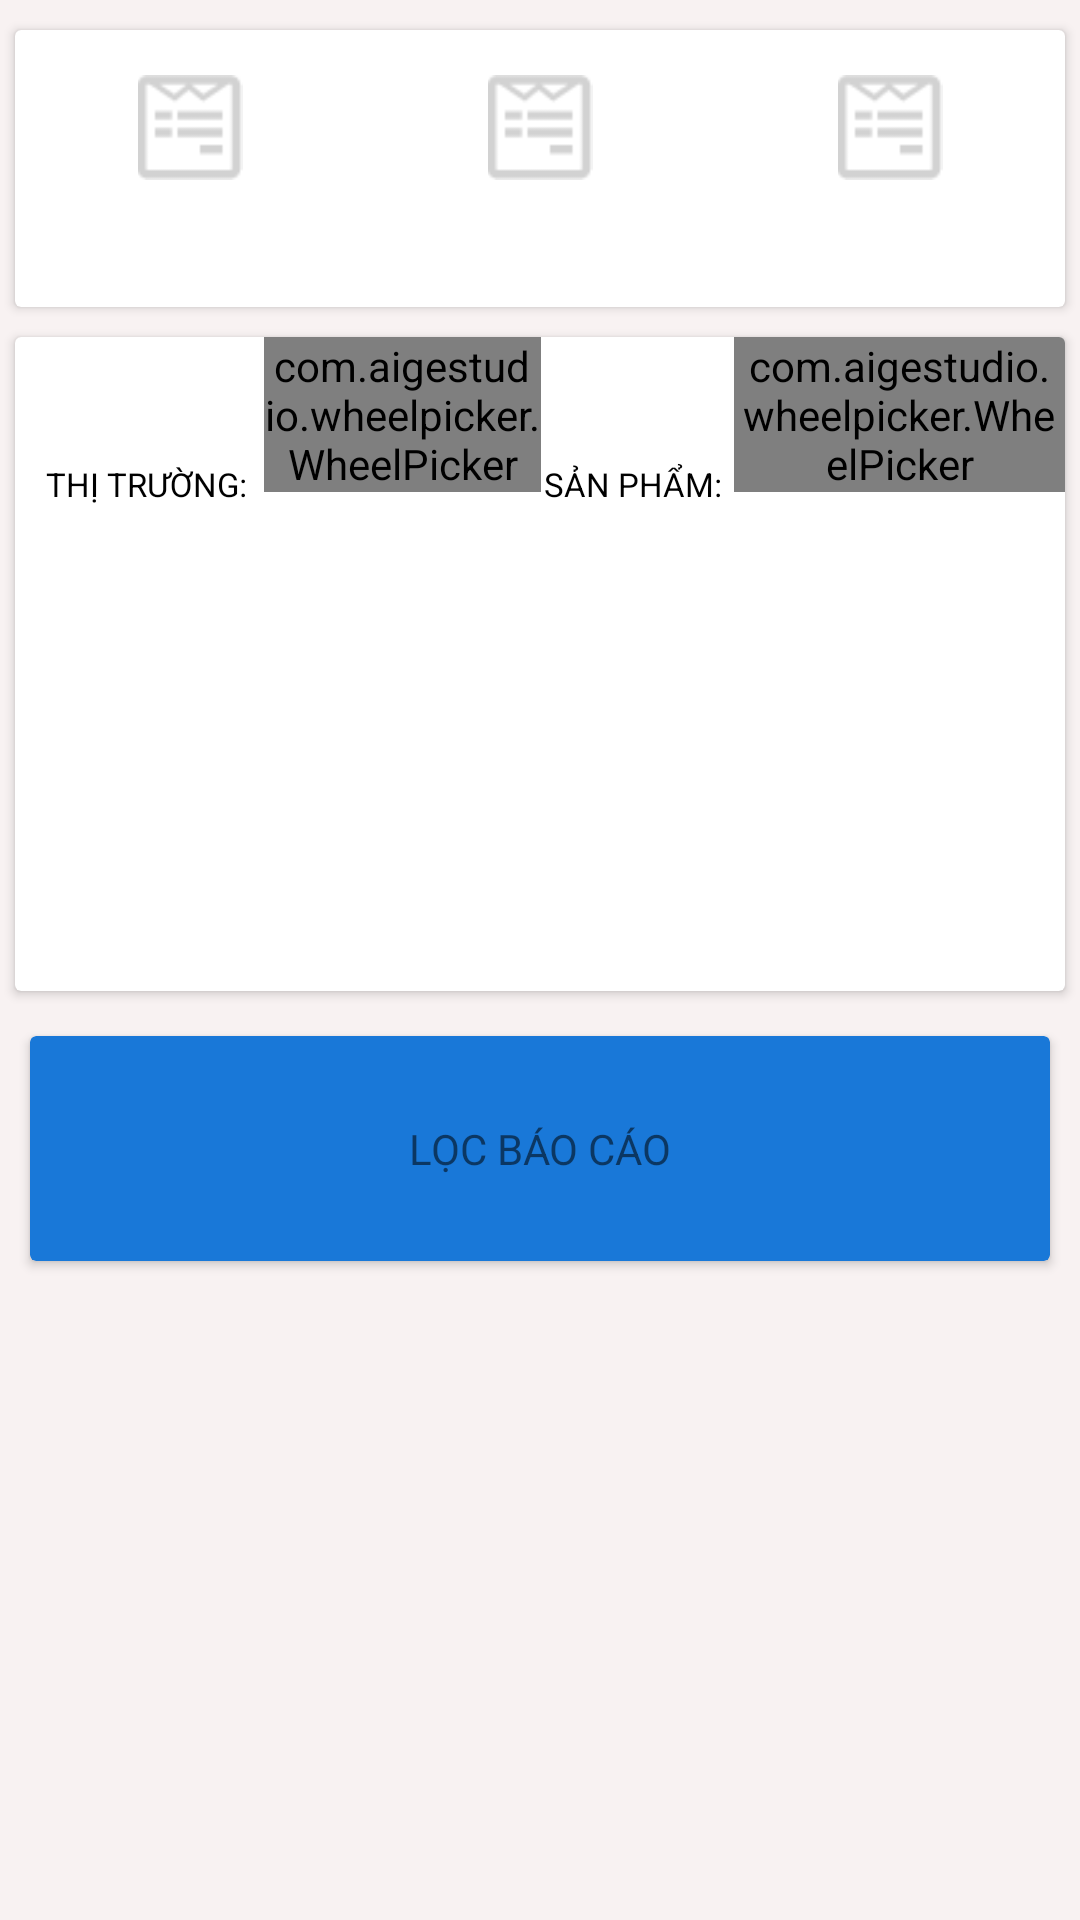

Icons on this 1080px×1920px Android screen, each with the point to tap as (x=x, y=y):
baocao filter: (x=189, y=126), (x=539, y=126), (x=889, y=126)
